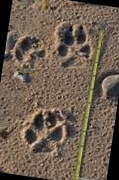rat: (27, 35, 69, 108), (62, 59, 103, 131)
